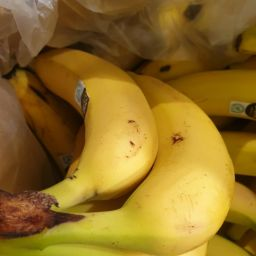Bannana: (24, 36, 234, 256), (138, 22, 256, 256)
